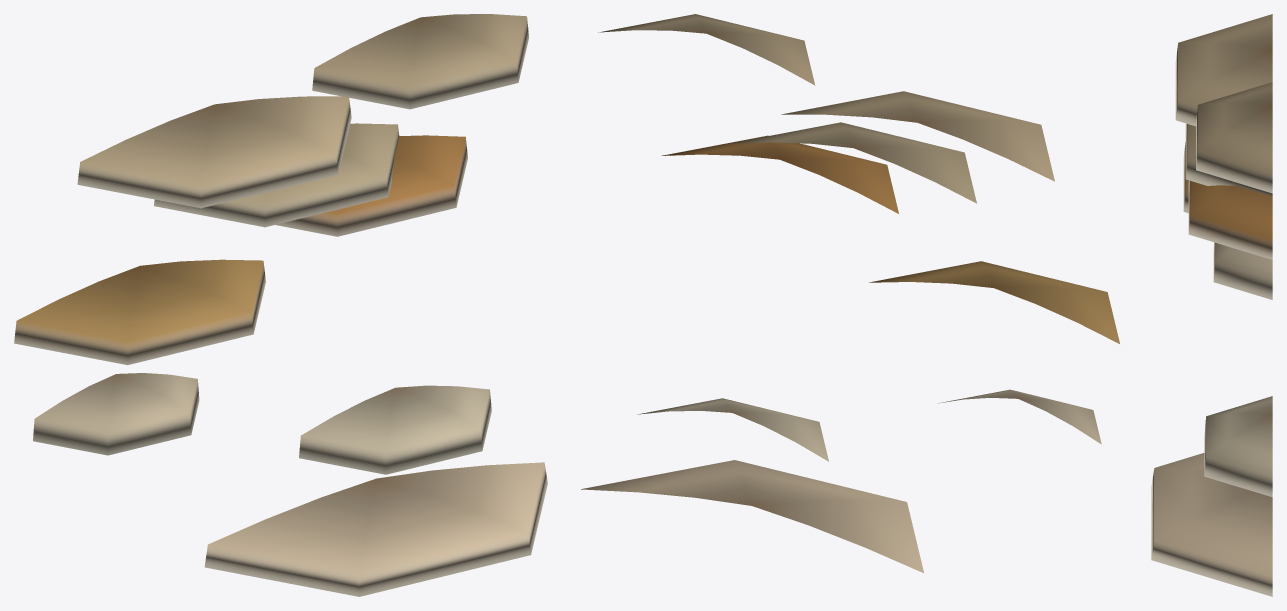
Rendered from fungus-bracket-b.lod2.glb.
The picture shows the model from 3 angles, left to right: view 1: azimuth 30°, elevation 25°; view 2: azimuth 150°, elevation 25°; view 3: azimuth 270°, elevation 25°; orthographic projection. The views are drawn at different scales.
Visible parts, largest first — view 1: fungus-bracket-b.lod2; view 2: fungus-bracket-b.lod2; view 3: fungus-bracket-b.lod2.
Boxes of the visible parts, left/top/right/bottom form: fungus-bracket-b.lod2: left=14, top=14, right=547, bottom=596; fungus-bracket-b.lod2: left=581, top=14, right=1119, bottom=573; fungus-bracket-b.lod2: left=1151, top=14, right=1272, bottom=596.
Size of the model in its own units: 0.4045 by 0.3601 by 0.0906.
